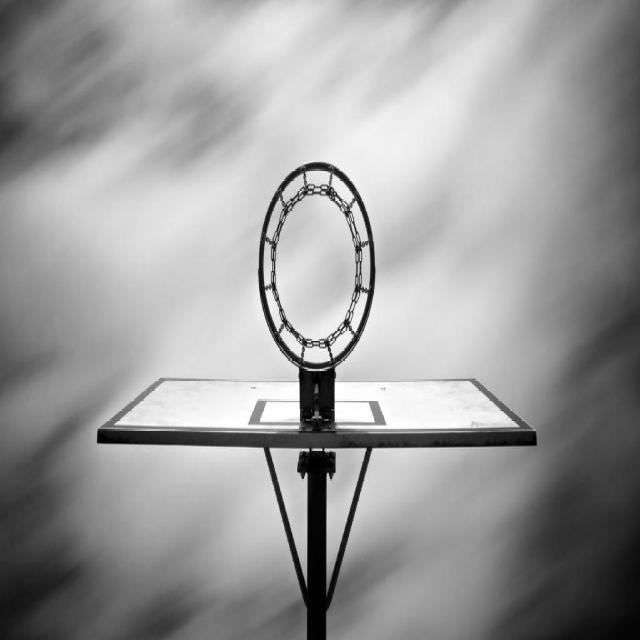Table: (96, 373, 536, 639)
